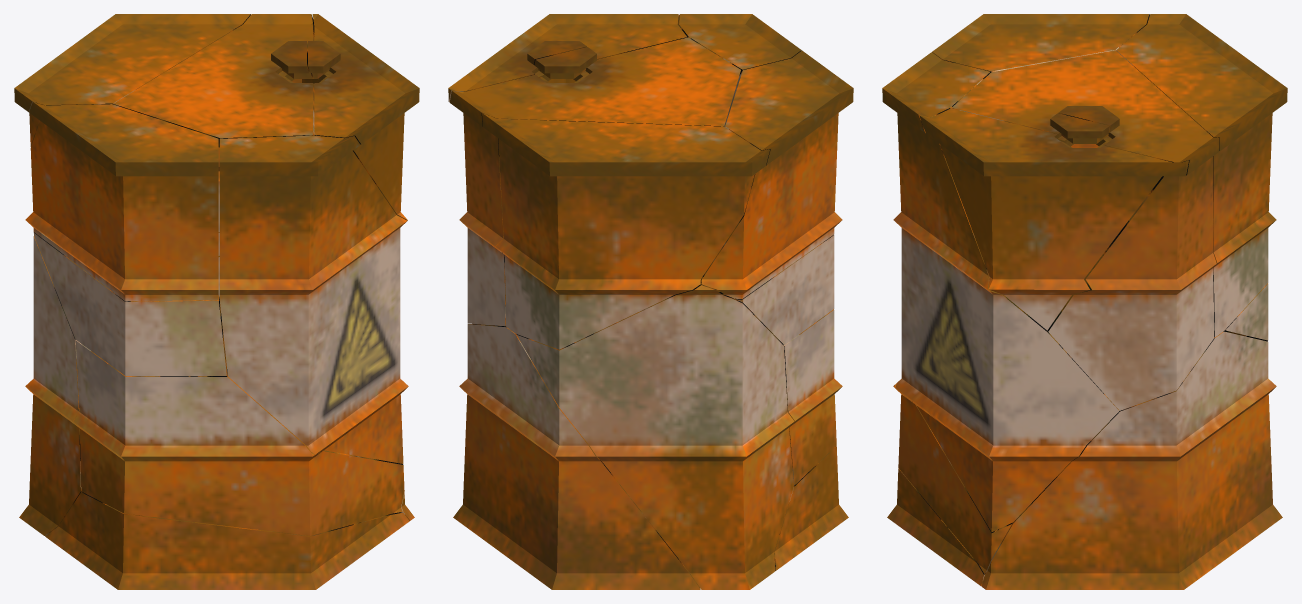
The model's file is ExplosiveBarrelDebris.fbx.
3 views of the same model, side by side, from view 1: azimuth 30°, elevation 25°; view 2: azimuth 150°, elevation 25°; view 3: azimuth 270°, elevation 25° (orthographic).
Parts seen in each view (by area): view 1: Barrel_Debris_7, Barrel_Debris_1, Barrel_Debris_8, Barrel_Debris_2, Barrel_Debris_5, Barrel_Debris_10, Barrel_Debris_3, Barrel_Debris_6, Barrel_Debris_4, Barrel_Debris_12, Barrel_Debris_11; view 2: Barrel_Debris_6, Barrel_Debris_3, Barrel_Debris_9, Barrel_Debris_5, Barrel_Debris_8, Barrel_Debris_4, Barrel_Debris_1, Barrel_Debris_10, Barrel_Debris_2, Barrel_Debris_7, Barrel_Debris_12, Barrel_Debris_11; view 3: Barrel_Debris_7, Barrel_Debris_9, Barrel_Debris_5, Barrel_Debris_4, Barrel_Debris_3, Barrel_Debris_8, Barrel_Debris_1, Barrel_Debris_2, Barrel_Debris_6, Barrel_Debris_11, Barrel_Debris_12.
Boxes of the visible parts, x1=… form: Barrel_Debris_7: x1=219, y1=135, x2=408, y2=463; Barrel_Debris_1: x1=73, y1=340, x2=404, y2=535; Barrel_Debris_8: x1=25, y1=102, x2=218, y2=301; Barrel_Debris_2: x1=45, y1=492, x2=409, y2=589; Barrel_Debris_5: x1=113, y1=14, x2=319, y2=147; Barrel_Debris_10: x1=33, y1=232, x2=226, y2=375; Barrel_Debris_3: x1=14, y1=14, x2=250, y2=232; Barrel_Debris_6: x1=19, y1=233, x2=219, y2=535; Barrel_Debris_4: x1=312, y1=14, x2=419, y2=220; Barrel_Debris_12: x1=271, y1=41, x2=312, y2=78; Barrel_Debris_11: x1=308, y1=41, x2=340, y2=78; Barrel_Debris_6: x1=516, y1=285, x2=794, y2=589; Barrel_Debris_3: x1=482, y1=113, x2=770, y2=349; Barrel_Debris_9: x1=453, y1=324, x2=700, y2=589; Barrel_Debris_5: x1=449, y1=37, x2=740, y2=326; Barrel_Debris_8: x1=700, y1=50, x2=853, y2=298; Barrel_Debris_4: x1=448, y1=14, x2=686, y2=101; Barrel_Debris_1: x1=783, y1=309, x2=842, y2=485; Barrel_Debris_10: x1=729, y1=235, x2=834, y2=345; Barrel_Debris_2: x1=774, y1=446, x2=848, y2=570; Barrel_Debris_7: x1=677, y1=14, x2=801, y2=75; Barrel_Debris_12: x1=534, y1=47, x2=596, y2=78; Barrel_Debris_11: x1=527, y1=41, x2=586, y2=71; Barrel_Debris_7: x1=882, y1=52, x2=1119, y2=531; Barrel_Debris_9: x1=981, y1=331, x2=1282, y2=589; Barrel_Debris_5: x1=952, y1=50, x2=1219, y2=410; Barrel_Debris_4: x1=919, y1=108, x2=1188, y2=330; Barrel_Debris_3: x1=1116, y1=14, x2=1287, y2=337; Barrel_Debris_8: x1=932, y1=14, x2=1149, y2=147; Barrel_Debris_1: x1=893, y1=383, x2=1016, y2=573; Barrel_Debris_2: x1=887, y1=468, x2=985, y2=585; Barrel_Debris_6: x1=1223, y1=283, x2=1268, y2=341; Barrel_Debris_11: x1=1050, y1=113, x2=1109, y2=143; Barrel_Debris_12: x1=1058, y1=106, x2=1119, y2=141.
Size of the model in its own units: 93.1 by 129 by 108.
1 material, 1 textured.
